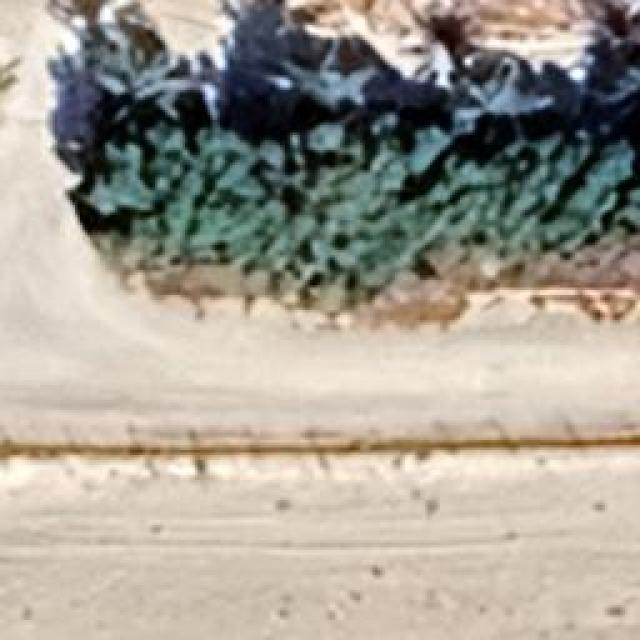PalmTree: (426, 49, 546, 142), (82, 40, 188, 135), (268, 55, 372, 125), (585, 58, 640, 134)
